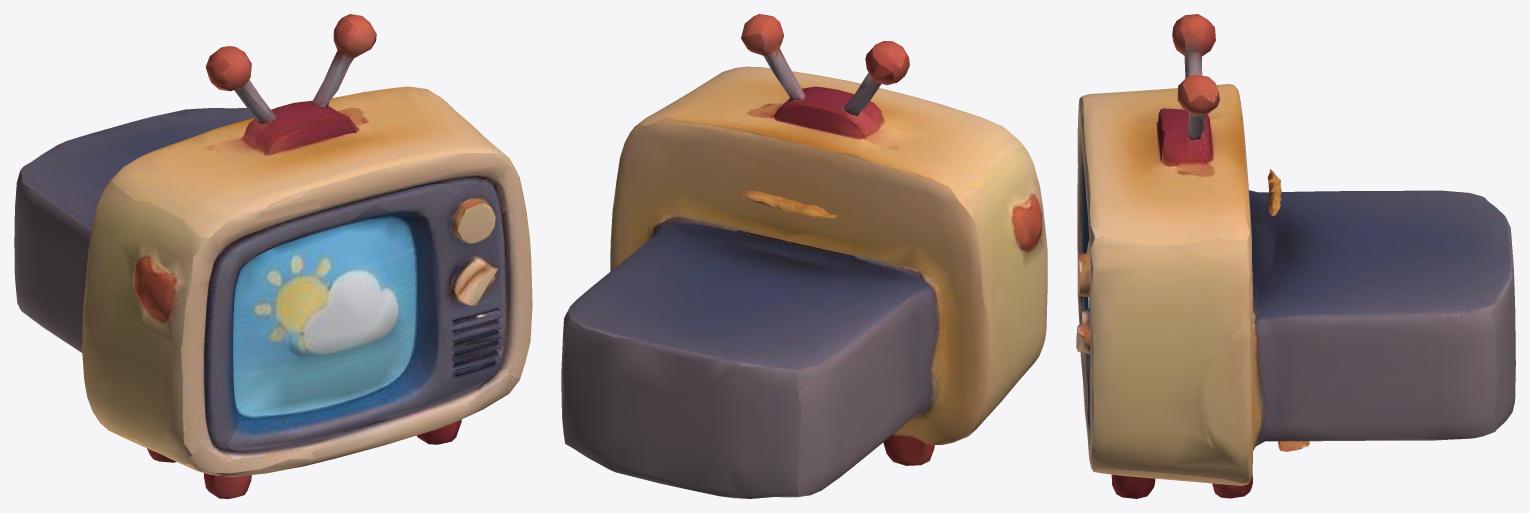
The picture shows the model from 3 angles, left to right: view 1: azimuth 30°, elevation 25°; view 2: azimuth 150°, elevation 25°; view 3: azimuth 270°, elevation 25°; orthographic projection. The views are drawn at different scales.
Parts seen in each view (by area): view 1: tv_s41; view 2: tv_s41; view 3: tv_s41.
Part boxes in pixels (x1=…): tv_s41: x1=14, y1=14, x2=532, y2=498; tv_s41: x1=561, y1=14, x2=1047, y2=498; tv_s41: x1=1076, y1=14, x2=1515, y2=498.
Bounding box in the file's own units: 0.9815 × 0.9872 × 1.
1 material, 1 textured.
